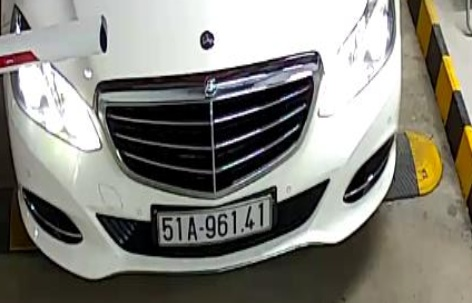plate: (151, 195, 277, 247)
